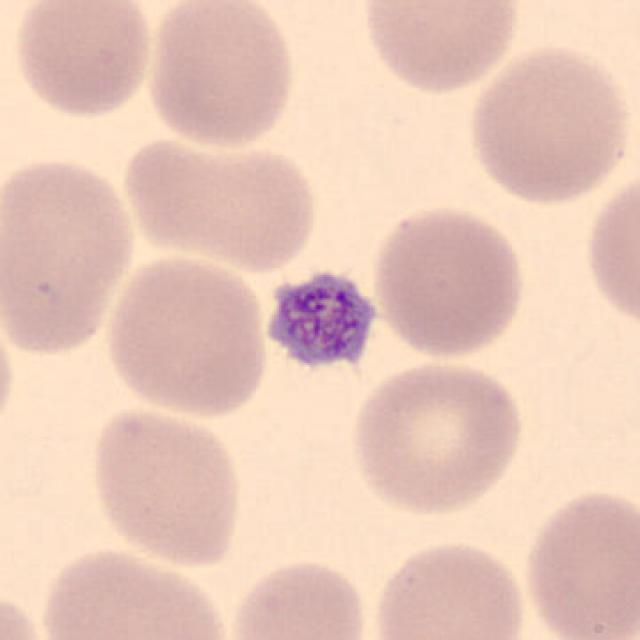Platelets: (260, 266, 382, 378)
RBC: (343, 354, 530, 520), (100, 248, 276, 422), (116, 129, 326, 273), (0, 148, 140, 359), (462, 39, 635, 208), (85, 402, 247, 571), (368, 199, 532, 363), (140, 0, 300, 152), (34, 543, 236, 640), (518, 483, 638, 640), (7, 0, 158, 122), (368, 534, 532, 640), (356, 0, 524, 97), (222, 553, 376, 640), (580, 160, 638, 337), (0, 296, 21, 453), (0, 583, 51, 640)
